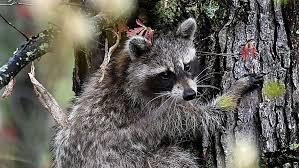raccoon: (40, 9, 274, 168)
